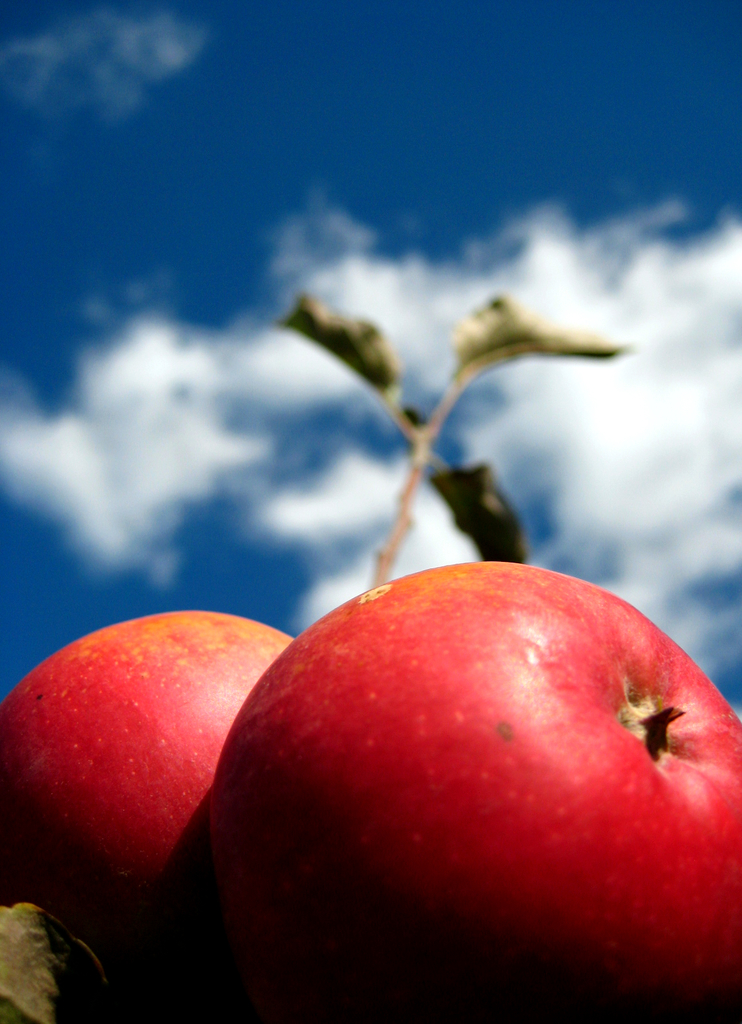Apple: (210, 556, 741, 1023), (0, 606, 298, 957)
